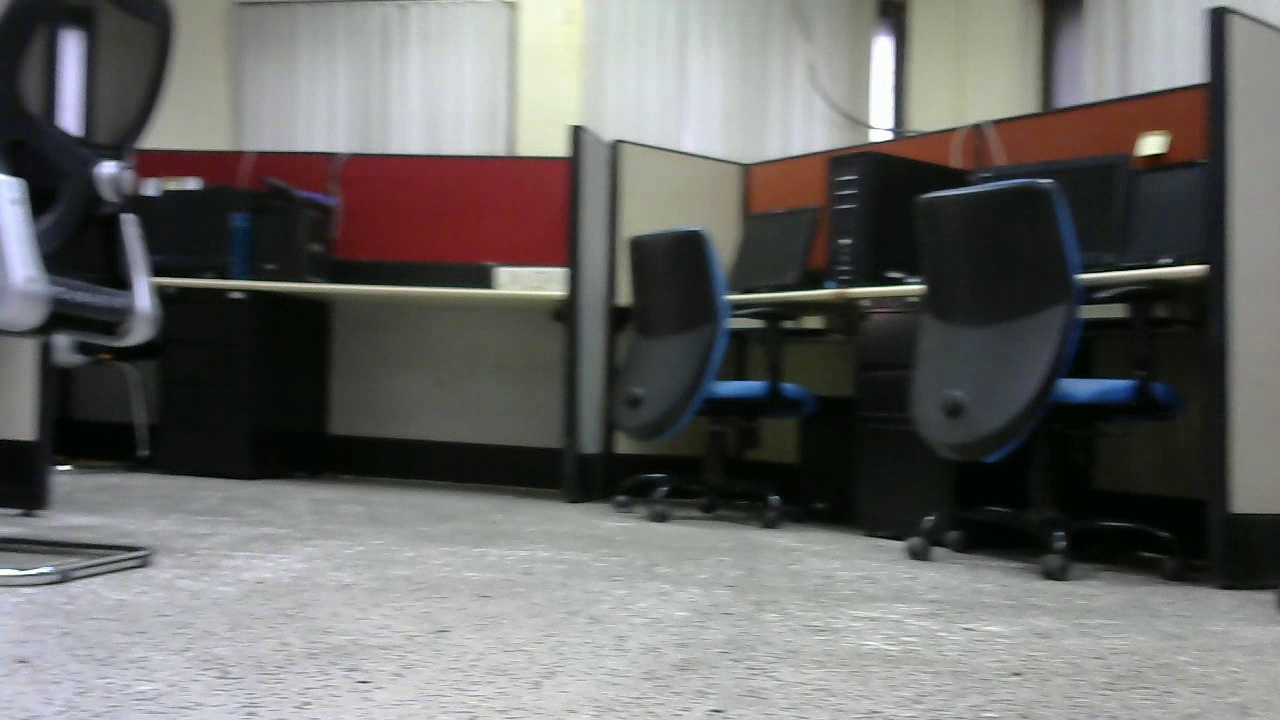chair: (908, 183, 1178, 574), (623, 225, 802, 526)
